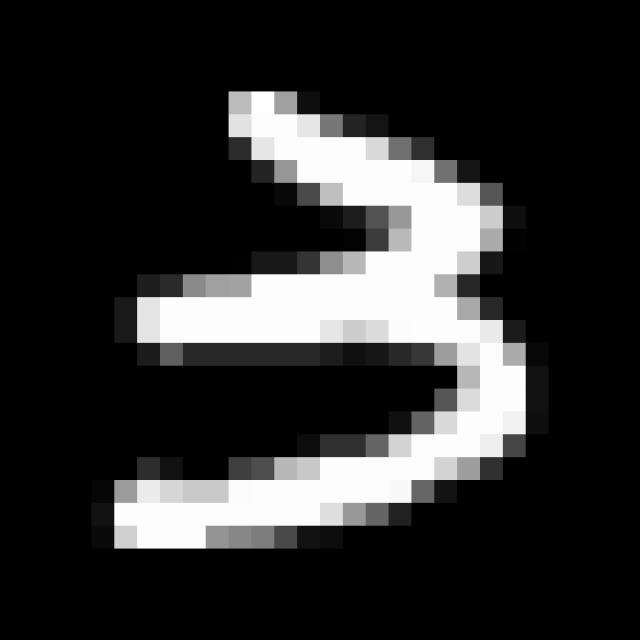three -3-: (96, 91, 544, 566)
